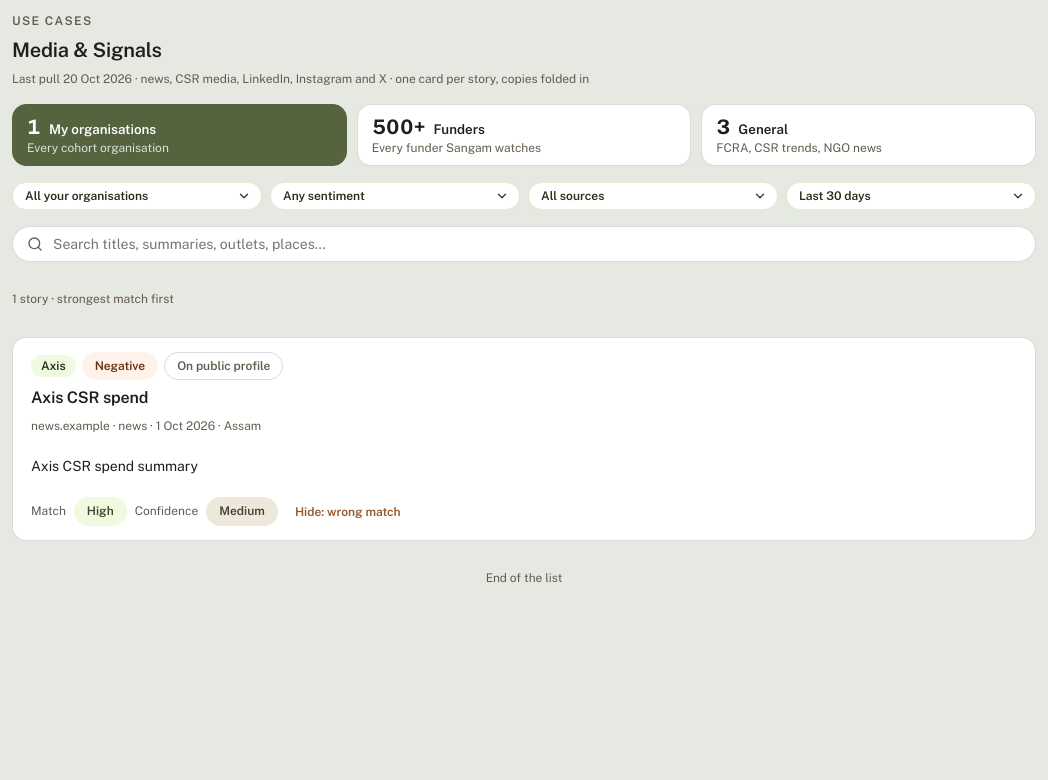
MediaView › lets staff hide a wrong match
Step 1. Click the button "500+ Funders Every funder Sangam watches" → (399,127), box x1=357 y1=104 x2=691 y2=166
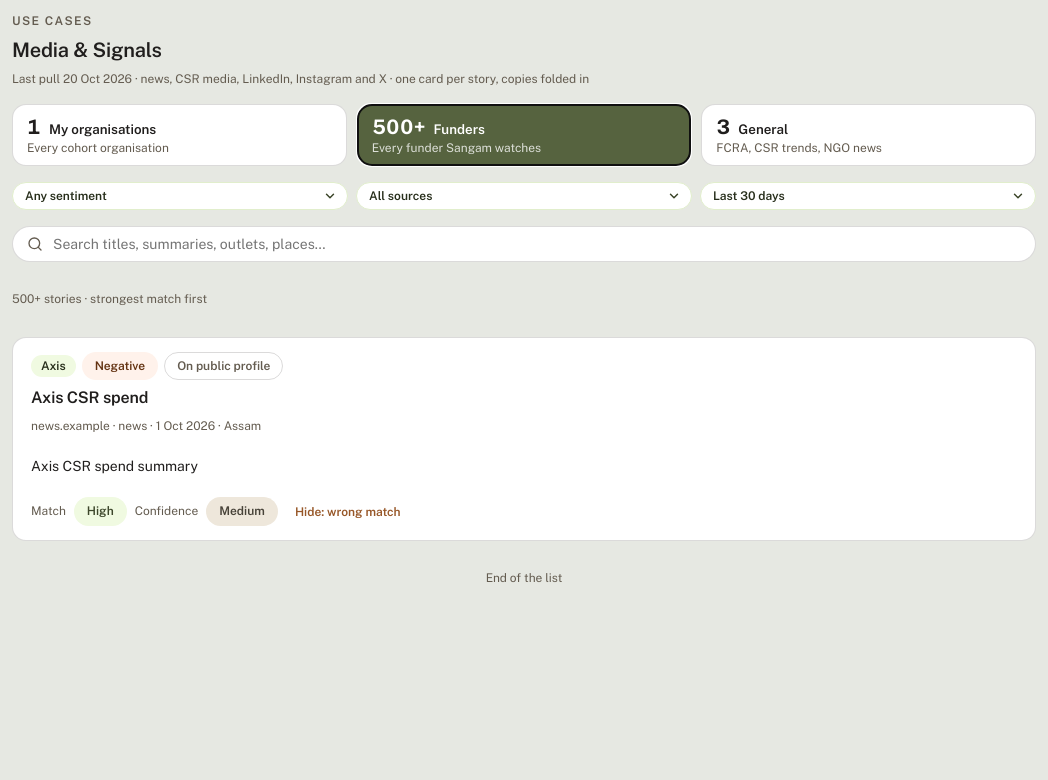
Step 2. Click the button "Hide: wrong match" → (348,512), box x1=286 y1=502 x2=410 y2=522
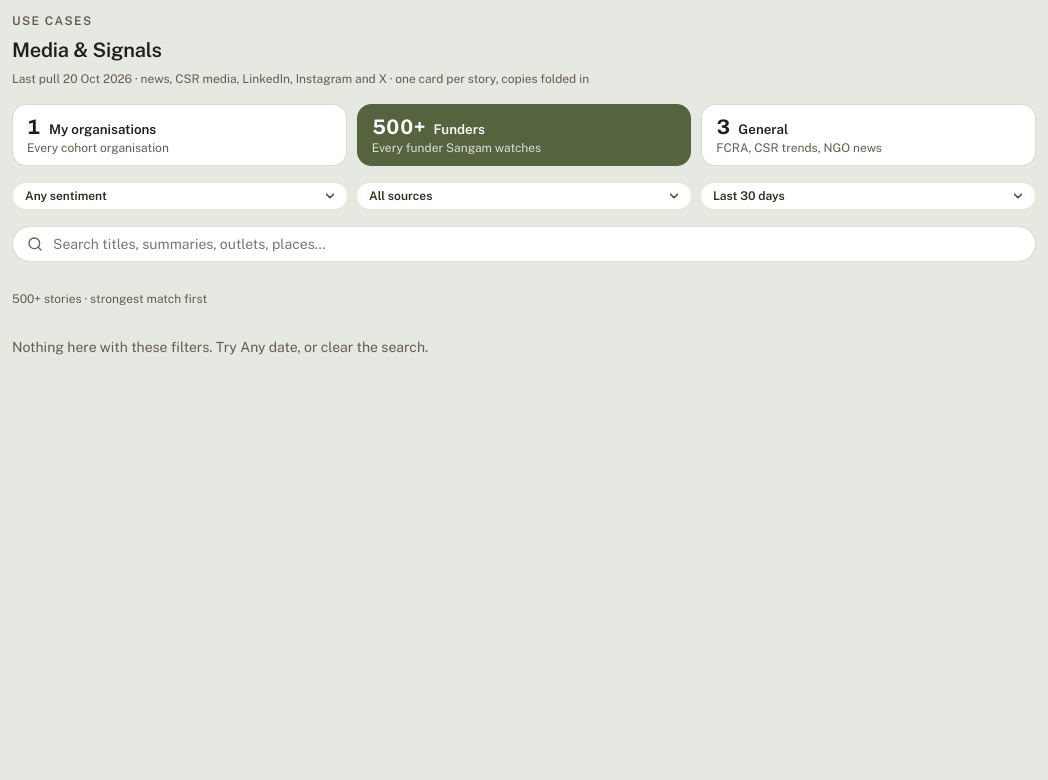
Check: the link "Axis CSR spend" is gone
